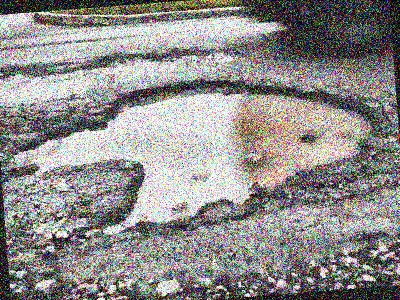pothole: (1, 61, 388, 246)
